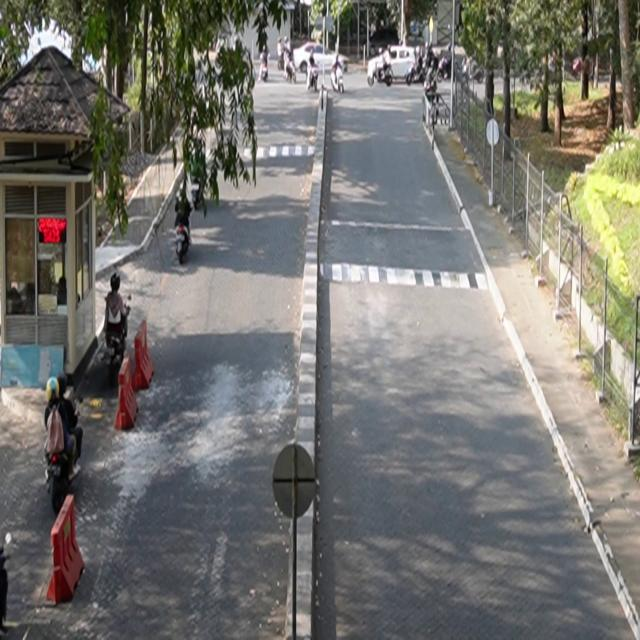car: (293, 42, 350, 74)
